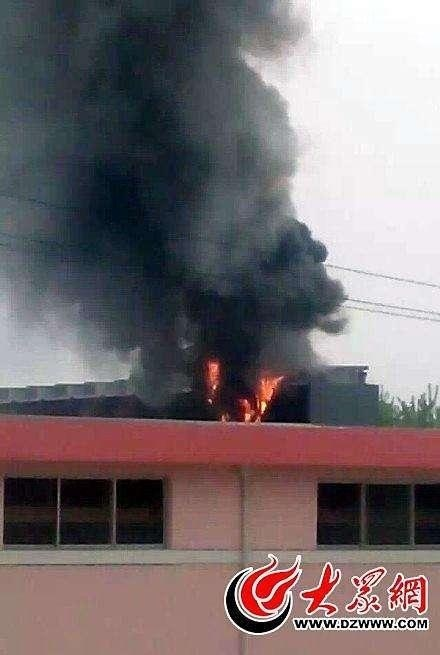fire: (232, 368, 281, 422), (205, 357, 223, 406)
